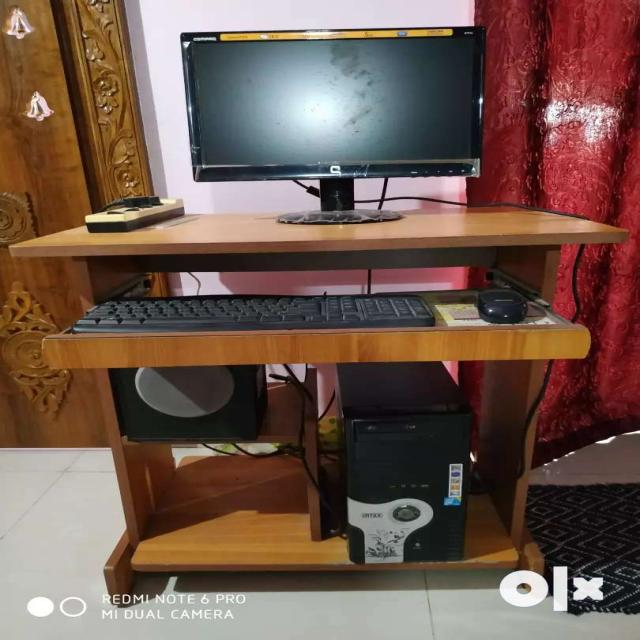keyboard: (88, 294, 436, 327)
komputer: (174, 34, 492, 222)
mouse: (477, 288, 532, 323)
table: (32, 195, 640, 599)
